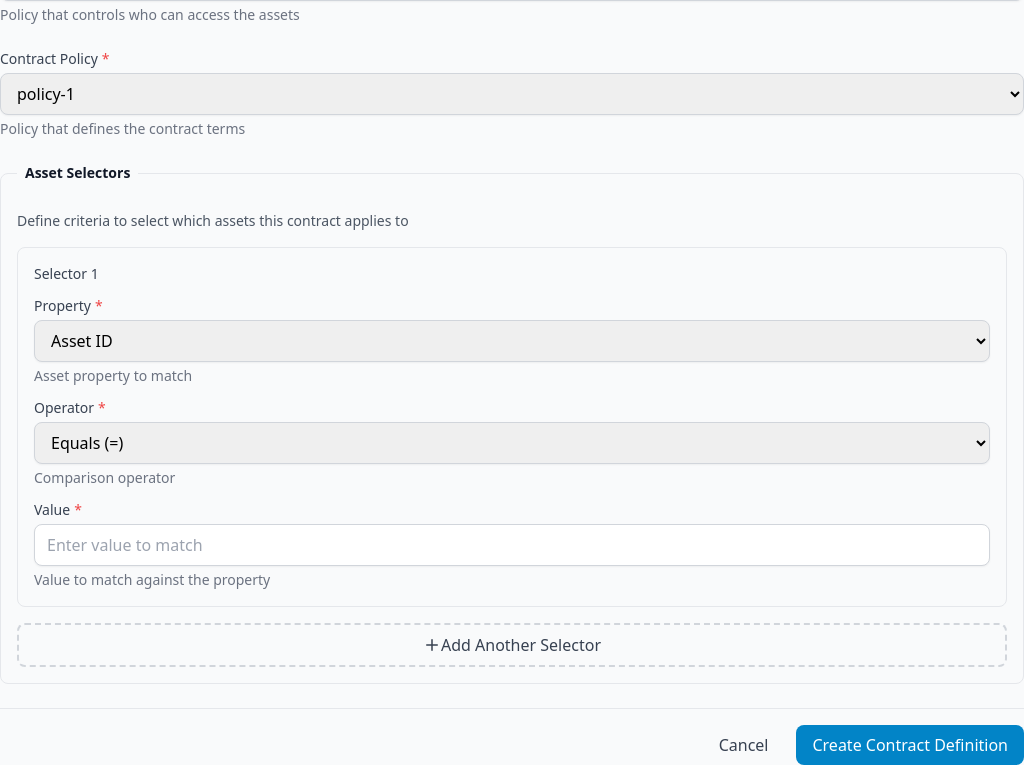
Test: ContractForm › asset selectors › adds new selector when add button is clicked
This screenshot has width=1024, height=765.
(page scrolled)
Click the button "Add Another Selector" at (512, 645), box [17,623,1007,667]
(page scrolled)
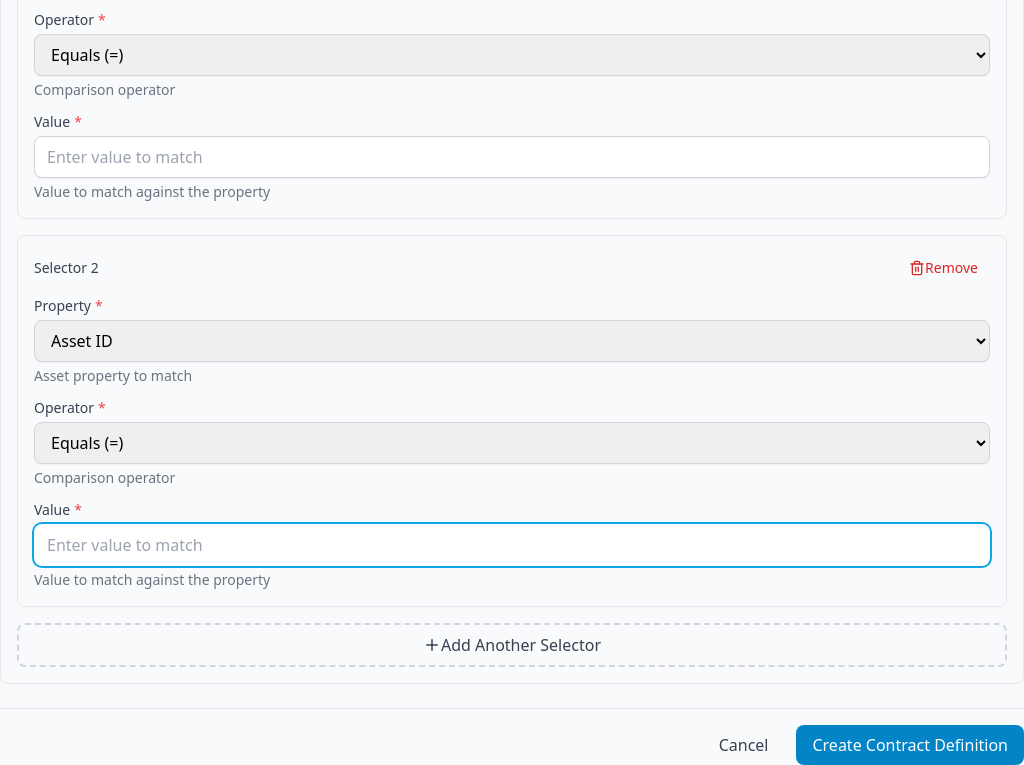
Result: the heading "Selector 2" is shown at [34,258,99,278]
